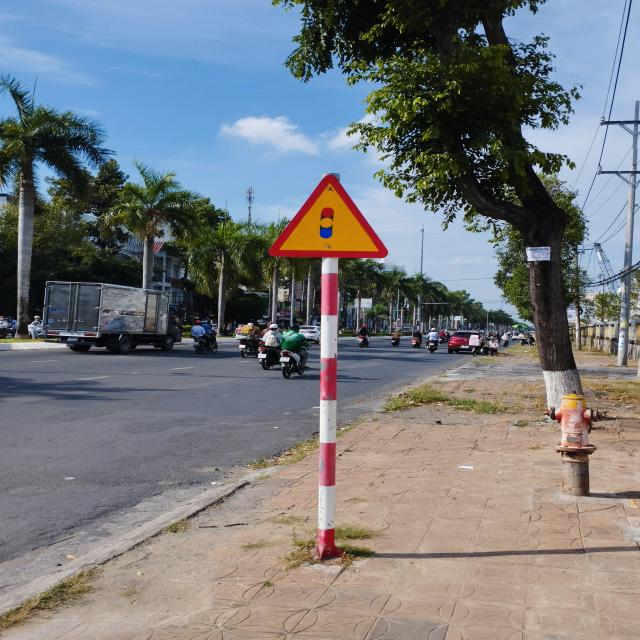Duong_Co_Go_Giam_Toc: (268, 174, 387, 258)
